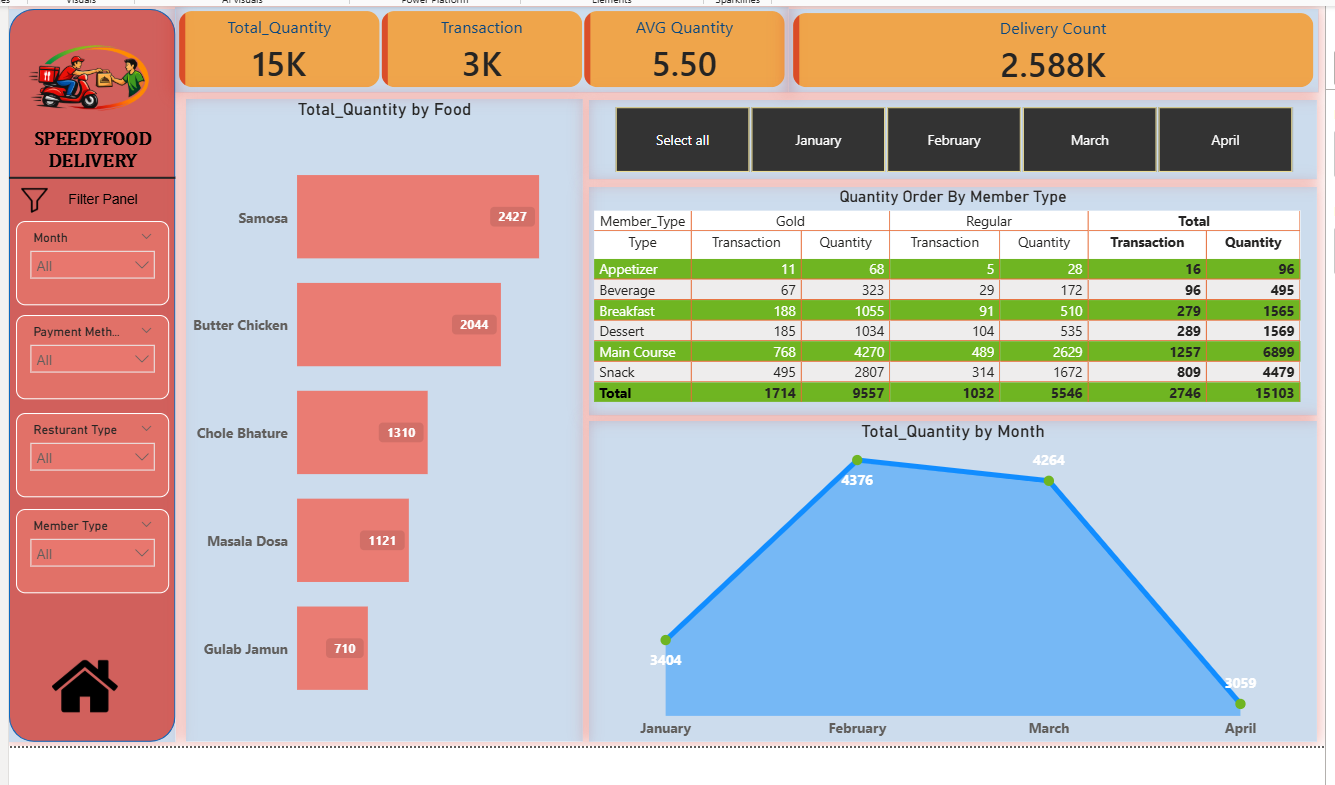

The dashboard page shown, as its layout file describes it:
{"tool":"powerbi","page":{"name":"Speedyfood Dashboard","canvas":[1280,720],"ordinal":1},"visuals":[{"type":"shape","box":[0,2.7,161.8,712.7],"z":0},{"type":"image","box":[0,0,161.8,148.2],"z":1000},{"type":"textbox","box":[0,113.6,161.8,83.6],"z":2000},{"type":"shape","box":[0,157.3,161.8,19.1],"z":3000},{"type":"cardVisual","fields":{"Data":["Sales Data (2).Total_Quantity","Sales Data (2).transaction","Sales Data (2).AVG Quantity"]},"box":[161.5,1,597.2,82.7],"z":4000},{"type":"slicer","fields":{"Values":["Sales Data (2).orderDate"]},"box":[6.4,209.1,149.1,81.8],"z":5000},{"type":"slicer","fields":{"Values":["Sales Data (2).payment_method"]},"box":[6.4,300.9,149.1,81.8],"z":6000},{"type":"slicer","fields":{"Values":["Resturant_Details.Resturant_type"]},"box":[6.4,395.5,149.1,81.8],"z":7000},{"type":"slicer","fields":{"Values":["Customer Details2.member_Type"]},"box":[6.4,489.1,149.1,81.8],"z":8000},{"type":"image","box":[41.8,620.5,64.2,81.7],"z":9000},{"type":"image","box":[6.4,176.4,35.5,26.4],"z":10000},{"type":"textbox","box":[41.8,172.7,99.1,30],"z":11000},{"type":"barChart","fields":{"Category":["Food_Details (2).Food"],"Y":["Sales Data (2).Total_Quantity"]},"box":[171.8,90.9,386.4,624.5],"z":13000},{"type":"pivotTable","title":"Quantity Order By Member Type","fields":{"Values":["Sales Data (2).Transaction","Sales Data (2).Total_Quantity"],"Rows":["Food_Details (2).Type"],"Columns":["Customer Details2.member_Type"]},"box":[564.5,176.4,708.2,221.8],"z":14000},{"type":"areaChart","fields":{"Category":["Sales Data (2).orderDate.Variation.Date Hierarchy.Month"],"Y":["Sales Data (2).Total_Quantity"]},"box":[564.5,403.6,708.2,311.8],"z":15000},{"type":"cardVisual","fields":{"Data":["Sales Data (2).Delivered Count"]},"box":[758.7,2.9,514.5,80.7],"z":16000},{"type":"slicer","fields":{"Values":["Sales Data (2).orderDate.Variation.Date Hierarchy.Month"]},"box":[564.1,91.4,708.1,76.8],"z":17000}]}

Visuals, with their boxes on the page's 1280x720 design canvas (x1, y1, x2, y2). These are canvas units, not pixel positions in the 1335x785 screenshot, which may show the page scaled, cropped or inside an application window:
shape: BBox(0, 3, 162, 715)
image: BBox(0, 0, 162, 148)
textbox: BBox(0, 114, 162, 197)
shape: BBox(0, 157, 162, 176)
cardVisual - Sales Data (2).Total_Quantity x Sales Data (2).transaction: BBox(162, 1, 759, 84)
slicer - Sales Data (2).orderDate: BBox(6, 209, 156, 291)
slicer - Sales Data (2).payment_method: BBox(6, 301, 156, 383)
slicer - Resturant_Details.Resturant_type: BBox(6, 396, 156, 477)
slicer - Customer Details2.member_Type: BBox(6, 489, 156, 571)
image: BBox(42, 620, 106, 702)
image: BBox(6, 176, 42, 203)
textbox: BBox(42, 173, 141, 203)
barChart - Food_Details (2).Food x Sales Data (2).Total_Quantity: BBox(172, 91, 558, 715)
"Quantity Order By Member Type" pivotTable: BBox(564, 176, 1273, 398)
areaChart - Sales Data (2).orderDate.Variation.Date Hierarchy.Month x Sales Data (2).Total_Quantity: BBox(564, 404, 1273, 715)
cardVisual - Sales Data (2).Delivered Count: BBox(759, 3, 1273, 84)
slicer - Sales Data (2).orderDate.Variation.Date Hierarchy.Month: BBox(564, 91, 1272, 168)
